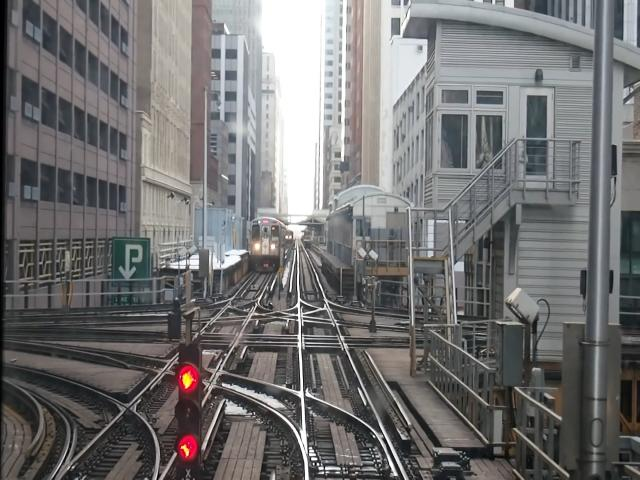signal light: (179, 343, 204, 480)
